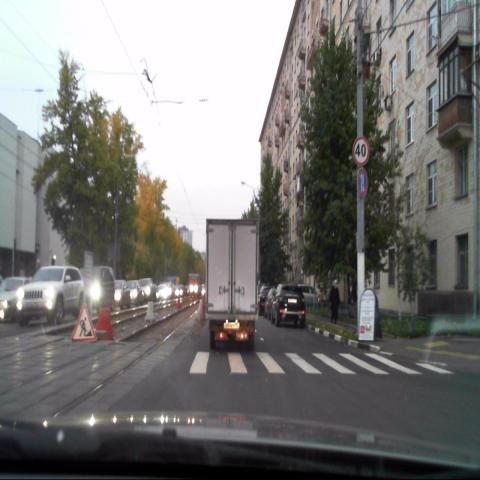1_25: (72, 303, 97, 342)
3_30: (357, 169, 369, 201)
